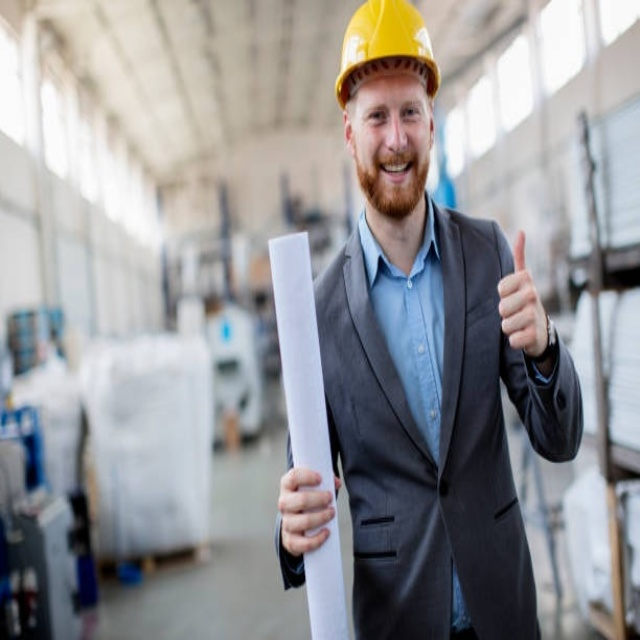Sin_gafas: (361, 97, 427, 138)
Sin_guantes: (495, 226, 553, 359), (277, 464, 338, 559)
Sin_mascara: (372, 149, 424, 191)
